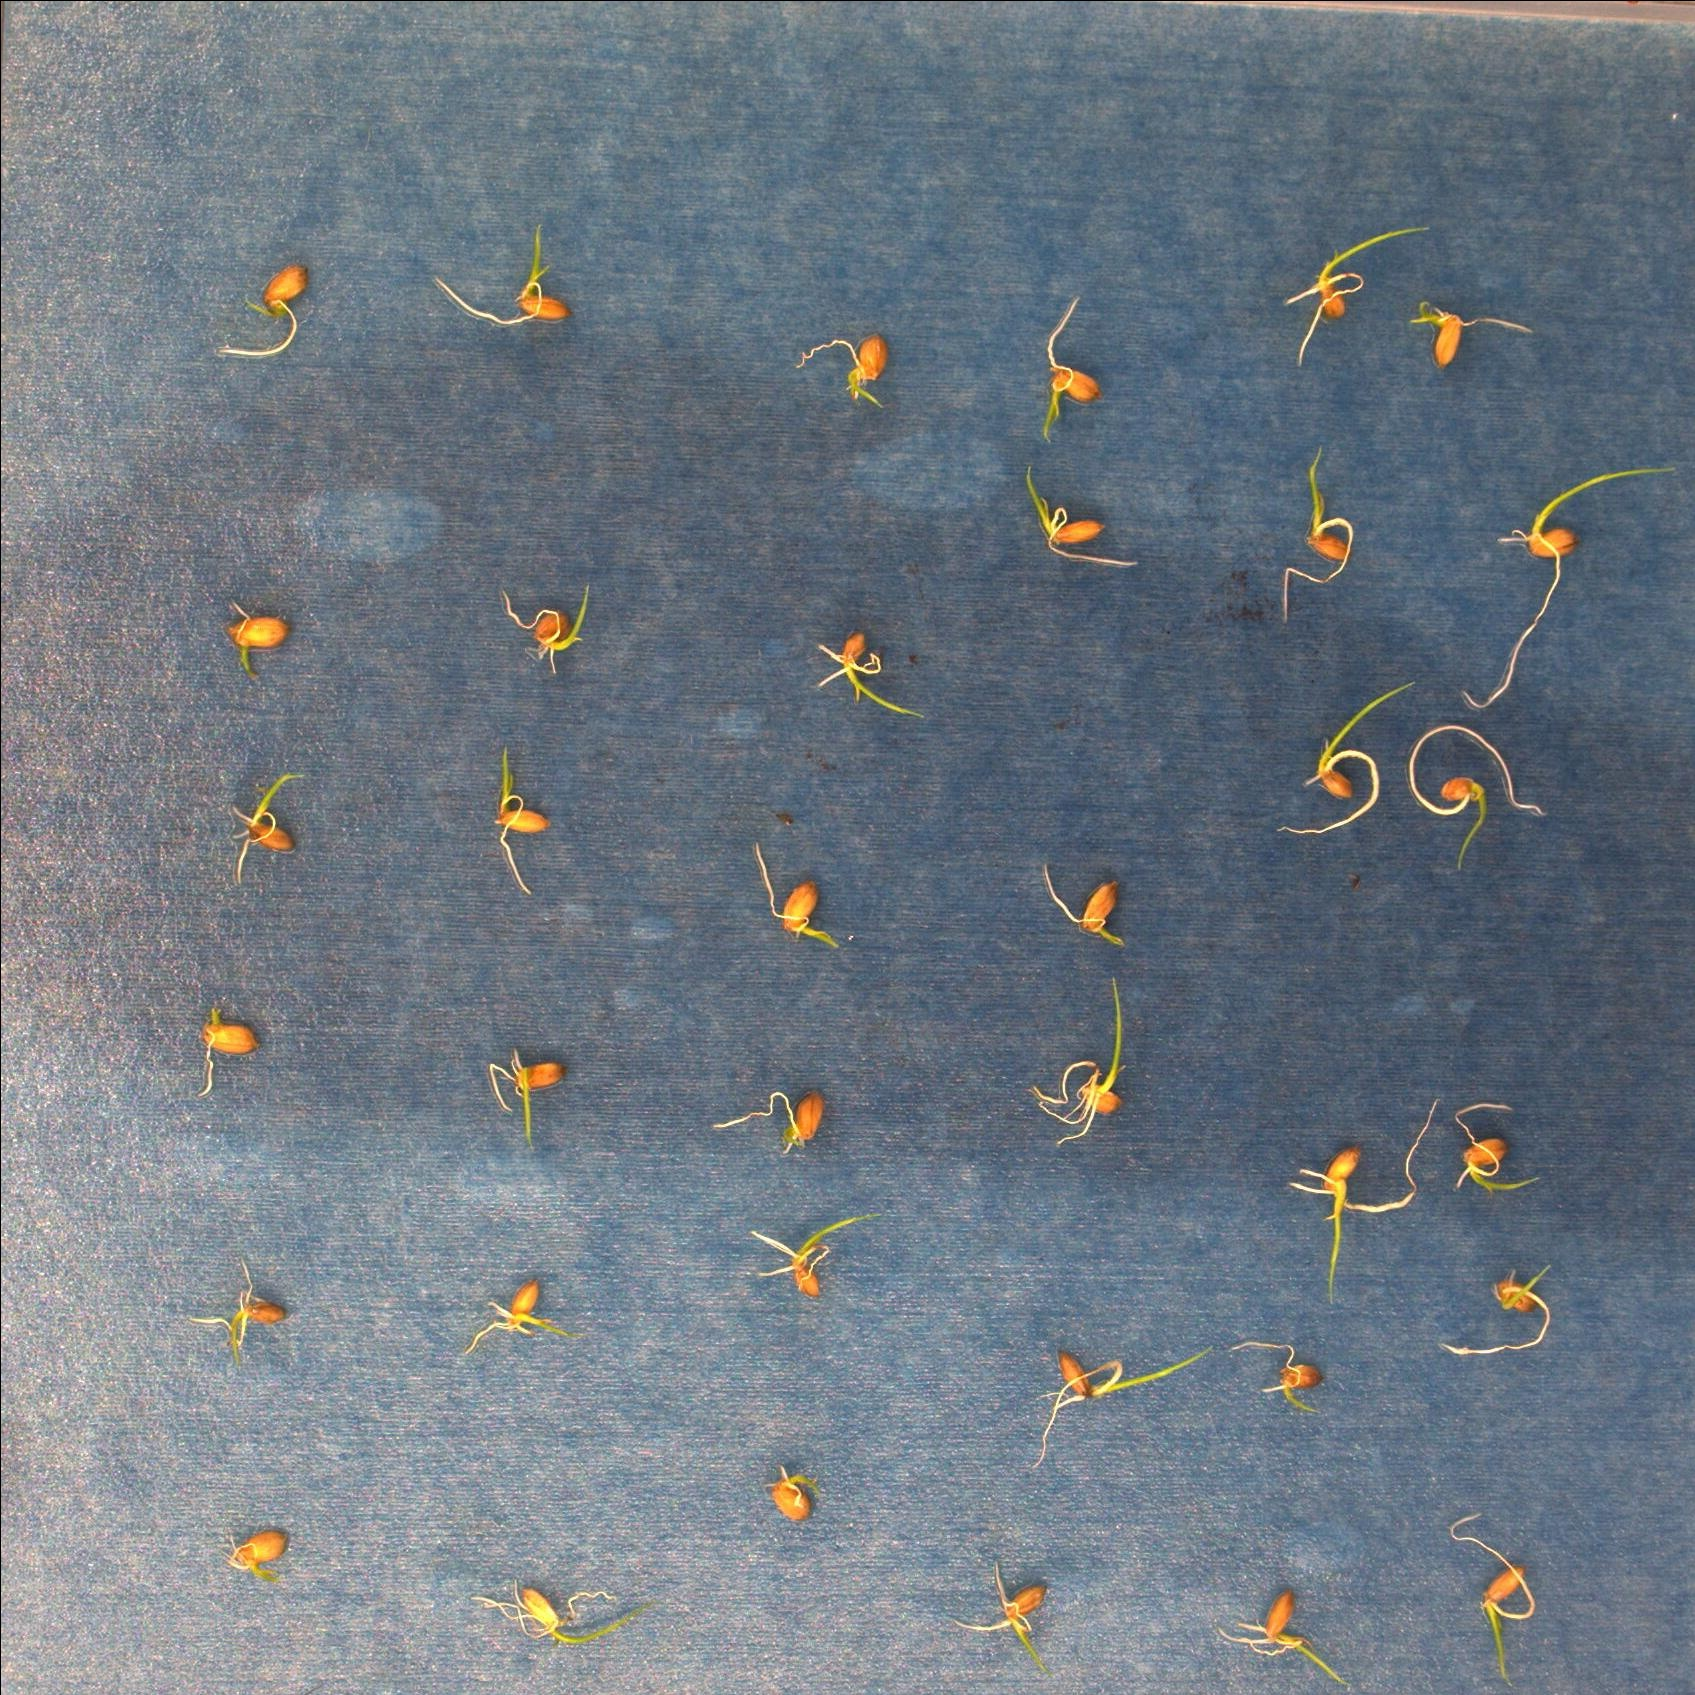not sprout: (211, 250, 328, 374), (1402, 292, 1534, 385), (177, 998, 282, 1074), (757, 1461, 820, 1530)
sprout: (1458, 449, 1678, 719), (1293, 1090, 1437, 1316), (1014, 1336, 1222, 1481), (1270, 177, 1389, 385), (1400, 723, 1549, 872), (1287, 678, 1417, 847), (1444, 1509, 1560, 1683), (1217, 1579, 1378, 1695), (439, 210, 581, 341), (1048, 981, 1144, 1161), (723, 1205, 877, 1310), (784, 321, 906, 442), (202, 757, 309, 893), (1282, 445, 1374, 602), (747, 835, 855, 967), (473, 1569, 644, 1650), (1029, 289, 1114, 449), (189, 565, 303, 683), (796, 612, 910, 730), (477, 740, 562, 889), (1434, 1094, 1535, 1220), (1456, 1248, 1555, 1375), (1222, 1326, 1336, 1433), (189, 1253, 303, 1357), (500, 581, 601, 694), (700, 1087, 841, 1167), (1029, 470, 1138, 573), (1034, 858, 1144, 959), (958, 1527, 1059, 1638), (464, 1256, 557, 1371), (483, 1018, 573, 1121), (217, 1524, 304, 1593)
